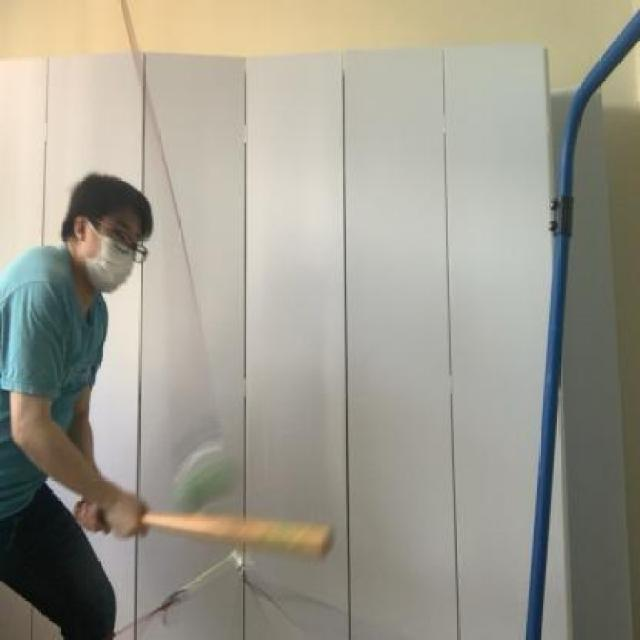baseball: (170, 444, 242, 514)
